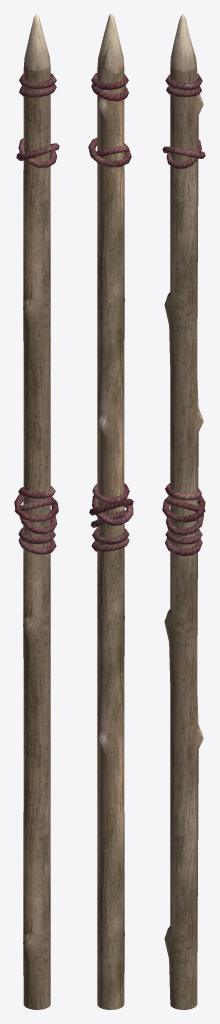
3 renders of one model, left to right at view 1: azimuth 30°, elevation 25°; view 2: azimuth 210°, elevation 25°; view 3: azimuth 330°, elevation 25°, orthographic.
Parts seen in each view (by area): view 1: SM_Garou_Set_SM_VerticalLog_02_1x12_LOD0; view 2: SM_Garou_Set_SM_VerticalLog_02_1x12_LOD0; view 3: SM_Garou_Set_SM_VerticalLog_02_1x12_LOD0.
Boxes of the visible parts, bbox=[...] form: SM_Garou_Set_SM_VerticalLog_02_1x12_LOD0: bbox=[14, 14, 59, 1009]; SM_Garou_Set_SM_VerticalLog_02_1x12_LOD0: bbox=[88, 14, 133, 1009]; SM_Garou_Set_SM_VerticalLog_02_1x12_LOD0: bbox=[162, 14, 205, 1009].
Bounding box in the file's own units: 0.5436 × 12.49 × 0.459.
1 material, 1 textured.
